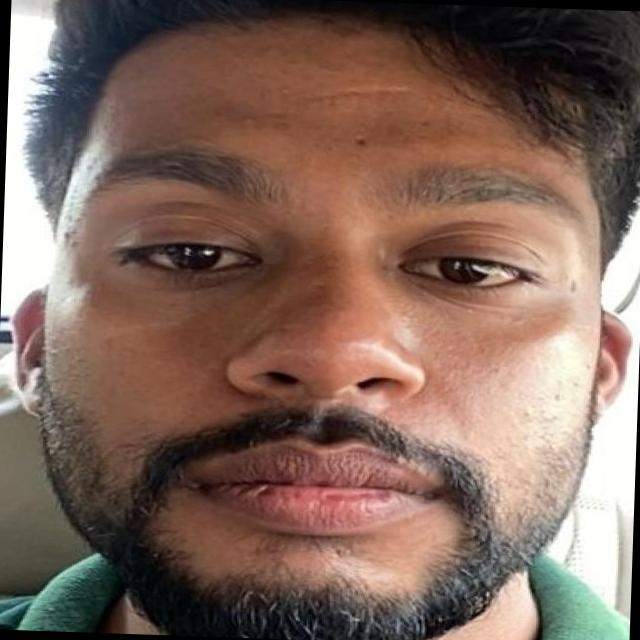redness: (289, 276, 366, 358), (401, 356, 457, 425)
